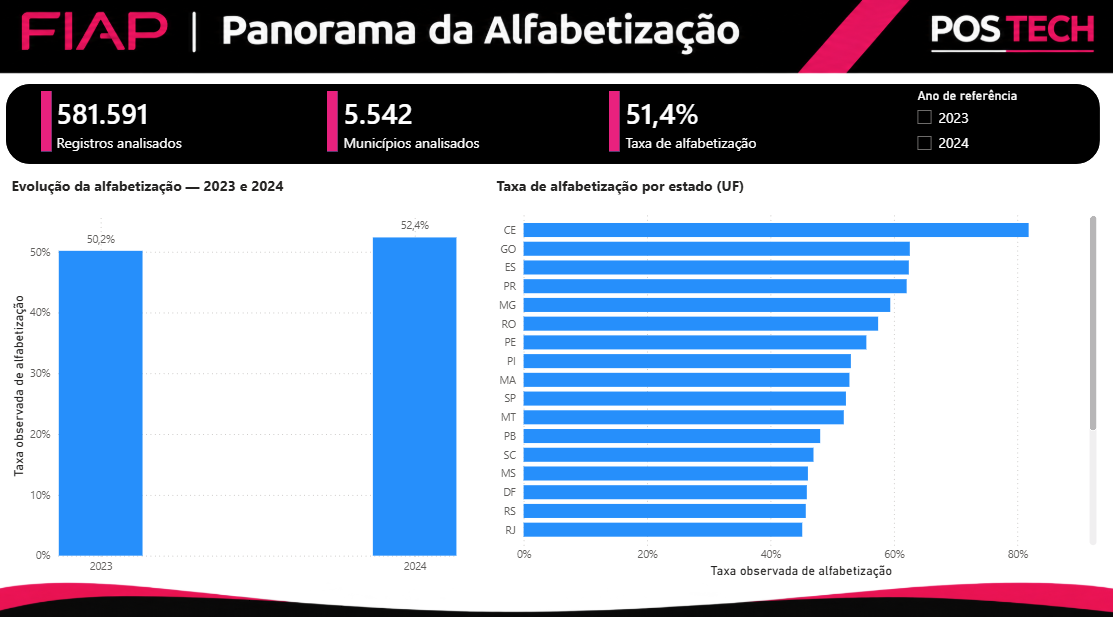

Layout of this report page (visuals, bound fields, positions):
{"tool":"powerbi","page":{"name":"Panorama da alfabetização","canvas":[1280,720],"ordinal":0},"visuals":[{"type":"shape","box":[14.8,109.4,1246.3,91.1],"z":0},{"type":"cardVisual","fields":{"Data":["Panorama_Municipal.Registros analisados"]},"box":[43.1,87.6,280.3,129.3],"z":1000},{"type":"cardVisual","fields":{"Data":["Panorama_Municipal.Municípios analisados"]},"box":[370.5,87.6,280.3,129.3],"z":2000},{"type":"cardVisual","fields":{"Data":["Panorama_Municipal.Taxa observada de alfabetização"]},"box":[691.2,87.6,280.3,129.3],"z":3000},{"type":"clusteredColumnChart","title":"Evolução da alfabetização — 2023 e 2024","fields":{"Category":["Panorama_Municipal.ano_referencia"],"Y":["Panorama_Municipal.Taxa observada de alfabetização"]},"box":[15.9,214.2,517.2,462.5],"z":4000},{"type":"clusteredBarChart","title":"Taxa de alfabetização por estado (UF)","fields":{"Category":["Panorama_Municipal.sigla_uf"],"Y":["Panorama_Municipal.Taxa observada de alfabetização"]},"box":[568.5,214.2,693.8,462.5],"z":5000},{"type":"slicer","fields":{"Values":["Panorama_Municipal.ano_referencia"]},"box":[1040.1,109.4,185.7,91.1],"z":6000},{"type":"shape","box":[55.2,117.2,12.1,68.7],"z":7000},{"type":"shape","box":[380,117.2,12.1,68.7],"z":8000},{"type":"shape","box":[702,117.2,12.1,68.7],"z":9000},{"type":"image","box":[0,4.6,1280.5,93.4],"z":10000},{"type":"image","box":[0,676.7,1280.5,43.3],"z":11000}]}

Visuals, with their boxes in screenshot pixels (x1, y1, x2, y2), scaled from the page's 1280x720 canvas onto the 1113x618 screenshot:
shape: x1=13 y1=94 x2=1097 y2=172
cardVisual - Panorama_Municipal.Registros analisados: x1=37 y1=75 x2=281 y2=186
cardVisual - Panorama_Municipal.Municípios analisados: x1=322 y1=75 x2=566 y2=186
cardVisual - Panorama_Municipal.Taxa observada de alfabetização: x1=601 y1=75 x2=845 y2=186
"Evolução da alfabetização — 2023 e 2024" clusteredColumnChart: x1=14 y1=184 x2=464 y2=581
"Taxa de alfabetização por estado (UF)" clusteredBarChart: x1=494 y1=184 x2=1098 y2=581
slicer - Panorama_Municipal.ano_referencia: x1=904 y1=94 x2=1066 y2=172
shape: x1=48 y1=101 x2=59 y2=160
shape: x1=330 y1=101 x2=341 y2=160
shape: x1=610 y1=101 x2=621 y2=160
image: x1=0 y1=4 x2=1112 y2=84
image: x1=0 y1=581 x2=1112 y2=617
